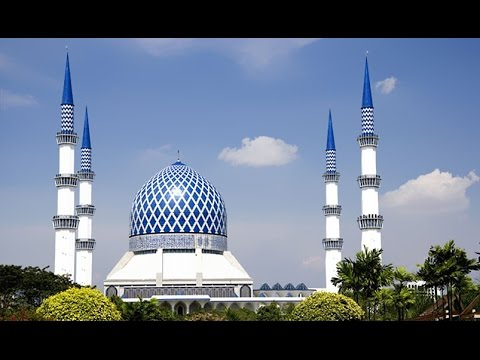Mosque: (40, 44, 384, 297)
